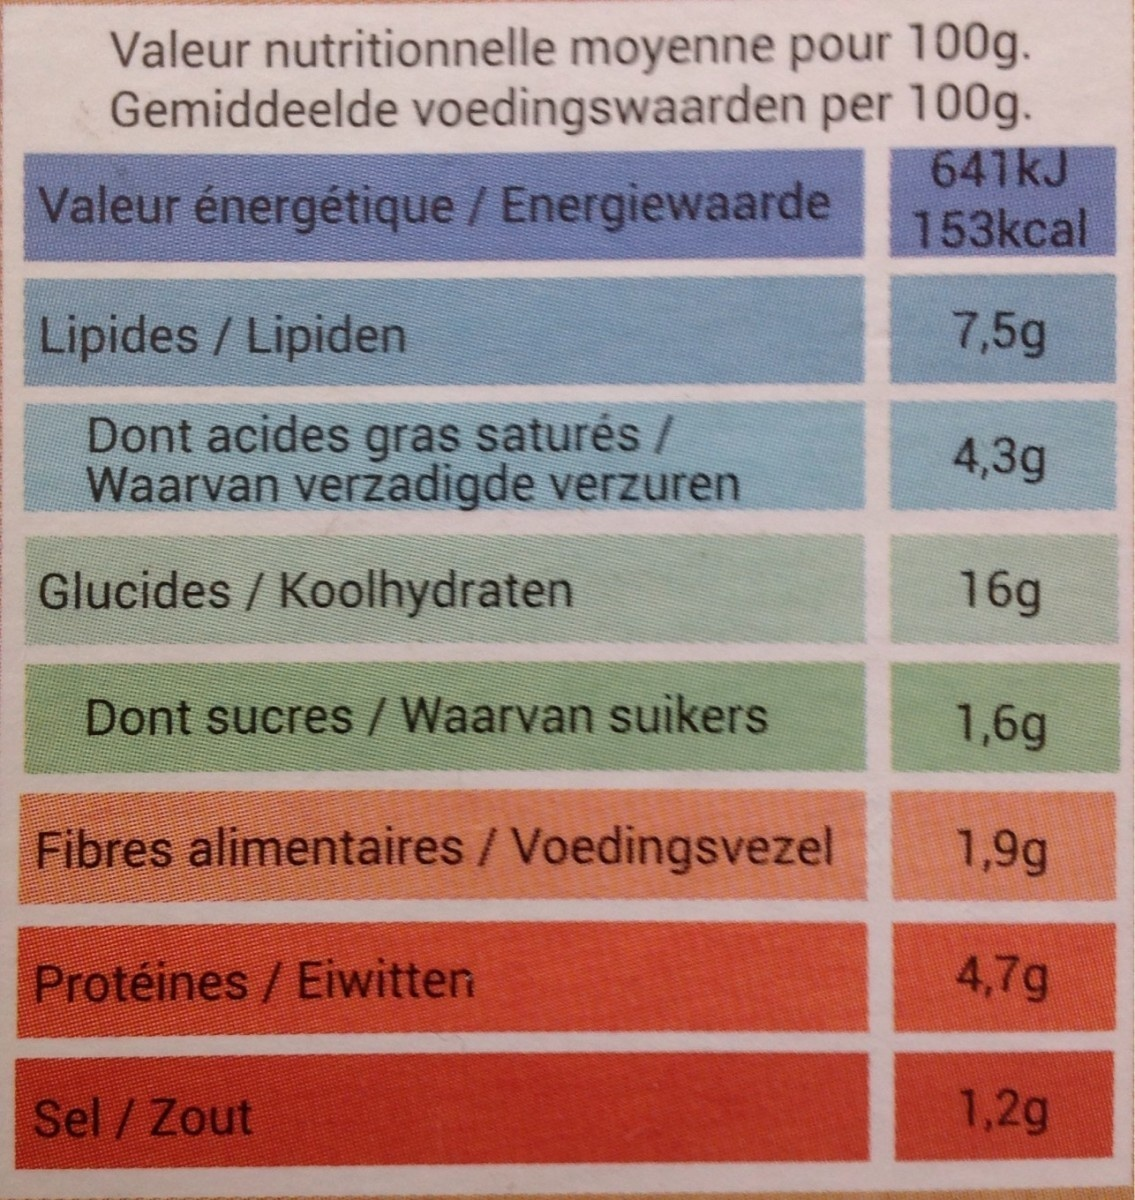column: (20, 143, 873, 1165), (886, 147, 1113, 1161)
table: (26, 154, 1115, 1161)
